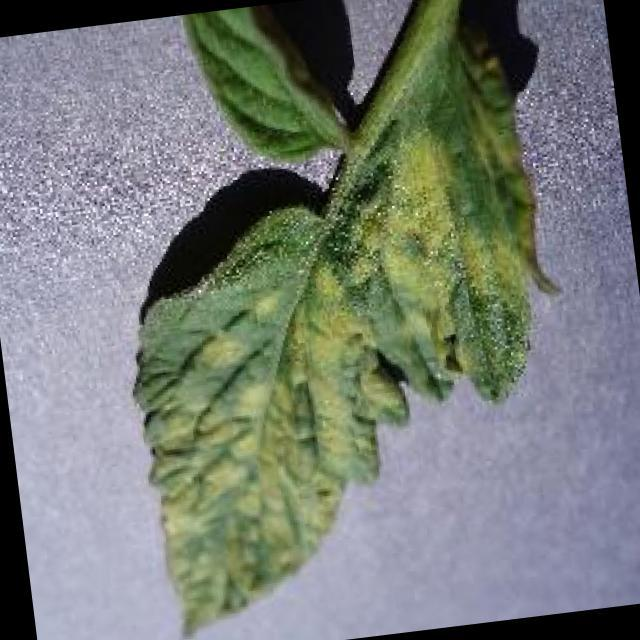Tomato healthy leaf: (176, 0, 348, 177)
Tomato mold leaf: (96, 37, 587, 640)
